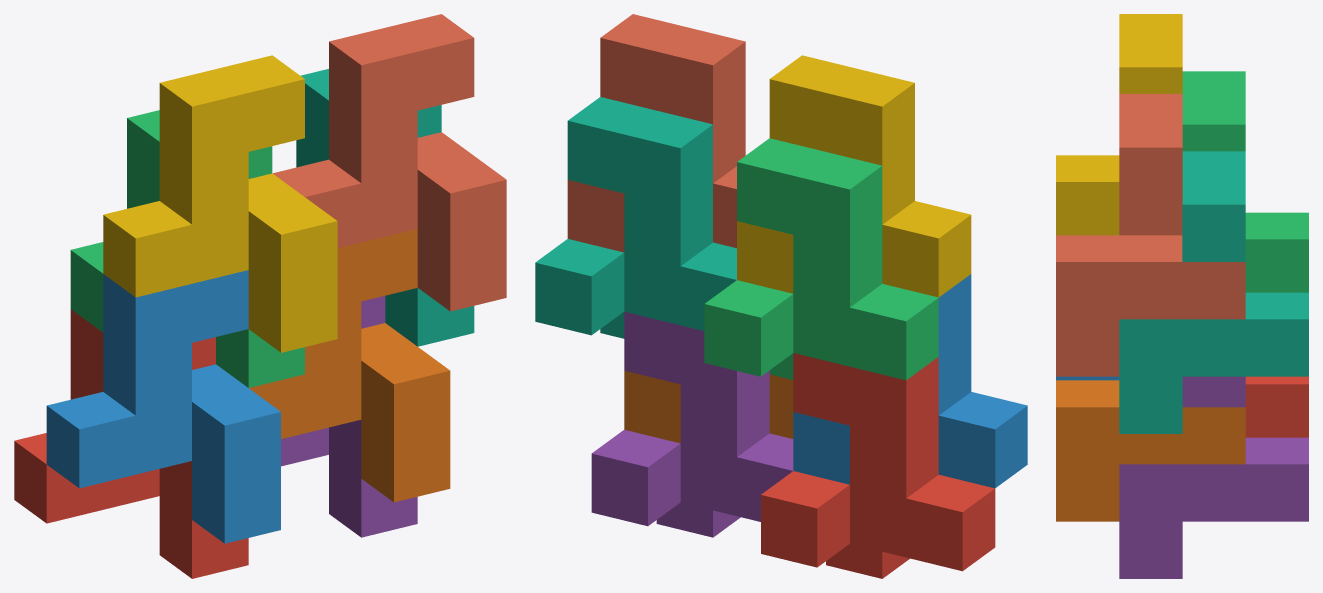
File: tiling.obj
3 renders of one model, left to right at view 1: azimuth 30°, elevation 25°; view 2: azimuth 150°, elevation 25°; view 3: azimuth 270°, elevation 25°, orthographic. The views are drawn at different scales.
Parts seen in each view (by area): view 1: copy_1_domain_4, copy_1_domain_8, copy_1_domain_2, copy_1_domain_6, copy_1_domain_1, copy_1_domain_3, copy_1_domain_5, copy_1_domain_7; view 2: copy_1_domain_3, copy_1_domain_1, copy_1_domain_7, copy_1_domain_5, copy_1_domain_4, copy_1_domain_8, copy_1_domain_2, copy_1_domain_6; view 3: copy_1_domain_8, copy_1_domain_7, copy_1_domain_5, copy_1_domain_6, copy_1_domain_3, copy_1_domain_4, copy_1_domain_1.
Boxes of the visible parts, x1,y1,x2,y2 form: copy_1_domain_4: (103,55,337,352); copy_1_domain_8: (273,14,506,311); copy_1_domain_2: (46,270,280,543); copy_1_domain_6: (249,229,450,502); copy_1_domain_1: (14,309,248,578); copy_1_domain_3: (70,110,304,387); copy_1_domain_5: (281,296,417,537); copy_1_domain_7: (296,69,474,346); copy_1_domain_3: (704,138,938,380); copy_1_domain_1: (761,353,995,578); copy_1_domain_7: (535,97,736,338); copy_1_domain_5: (591,311,793,537); copy_1_domain_4: (737,55,971,297); copy_1_domain_8: (567,14,745,252); copy_1_domain_2: (793,274,1027,488); copy_1_domain_6: (624,370,793,443); copy_1_domain_8: (1056,94,1245,376); copy_1_domain_7: (1119,151,1308,433); copy_1_domain_5: (1119,376,1308,578); copy_1_domain_6: (1056,380,1245,521); copy_1_domain_3: (1182,71,1308,292); copy_1_domain_4: (1056,14,1182,235); copy_1_domain_1: (1245,376,1308,437).
Size of the model in its own units: 7 by 8 by 4.
